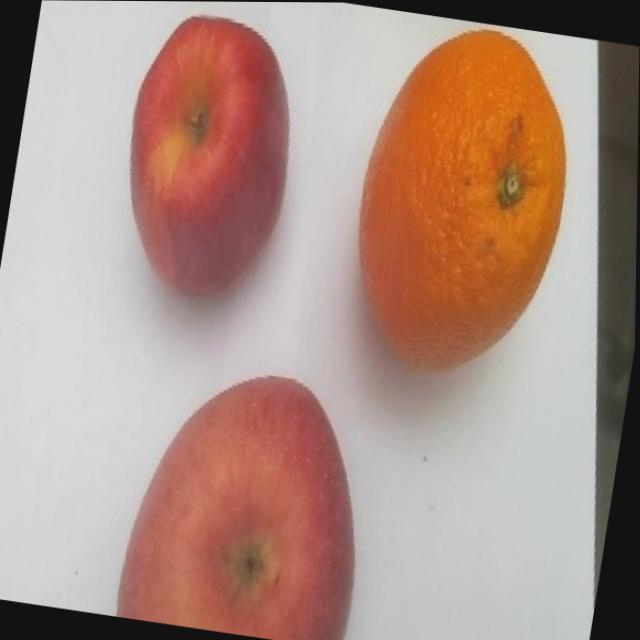Apple: (112, 351, 391, 640), (102, 2, 313, 309)
Orange: (329, 7, 591, 393)
